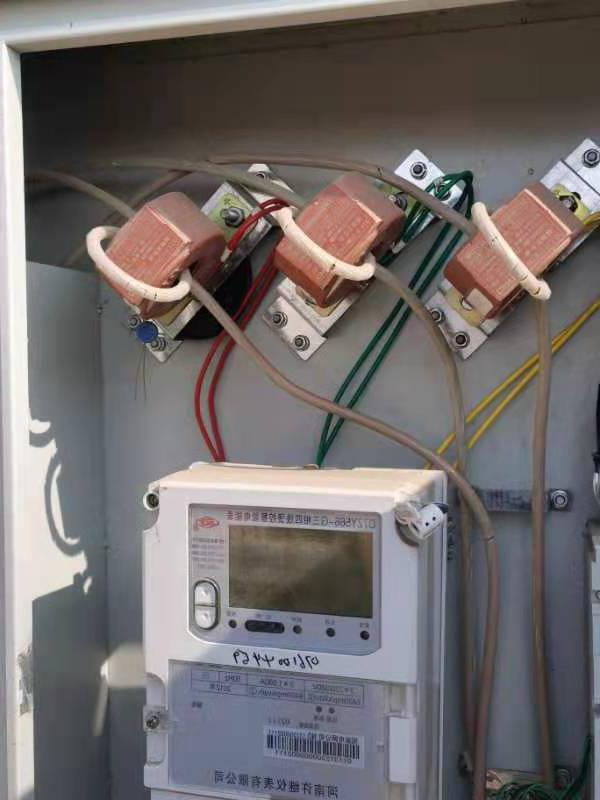digital: (143, 485, 420, 800)
